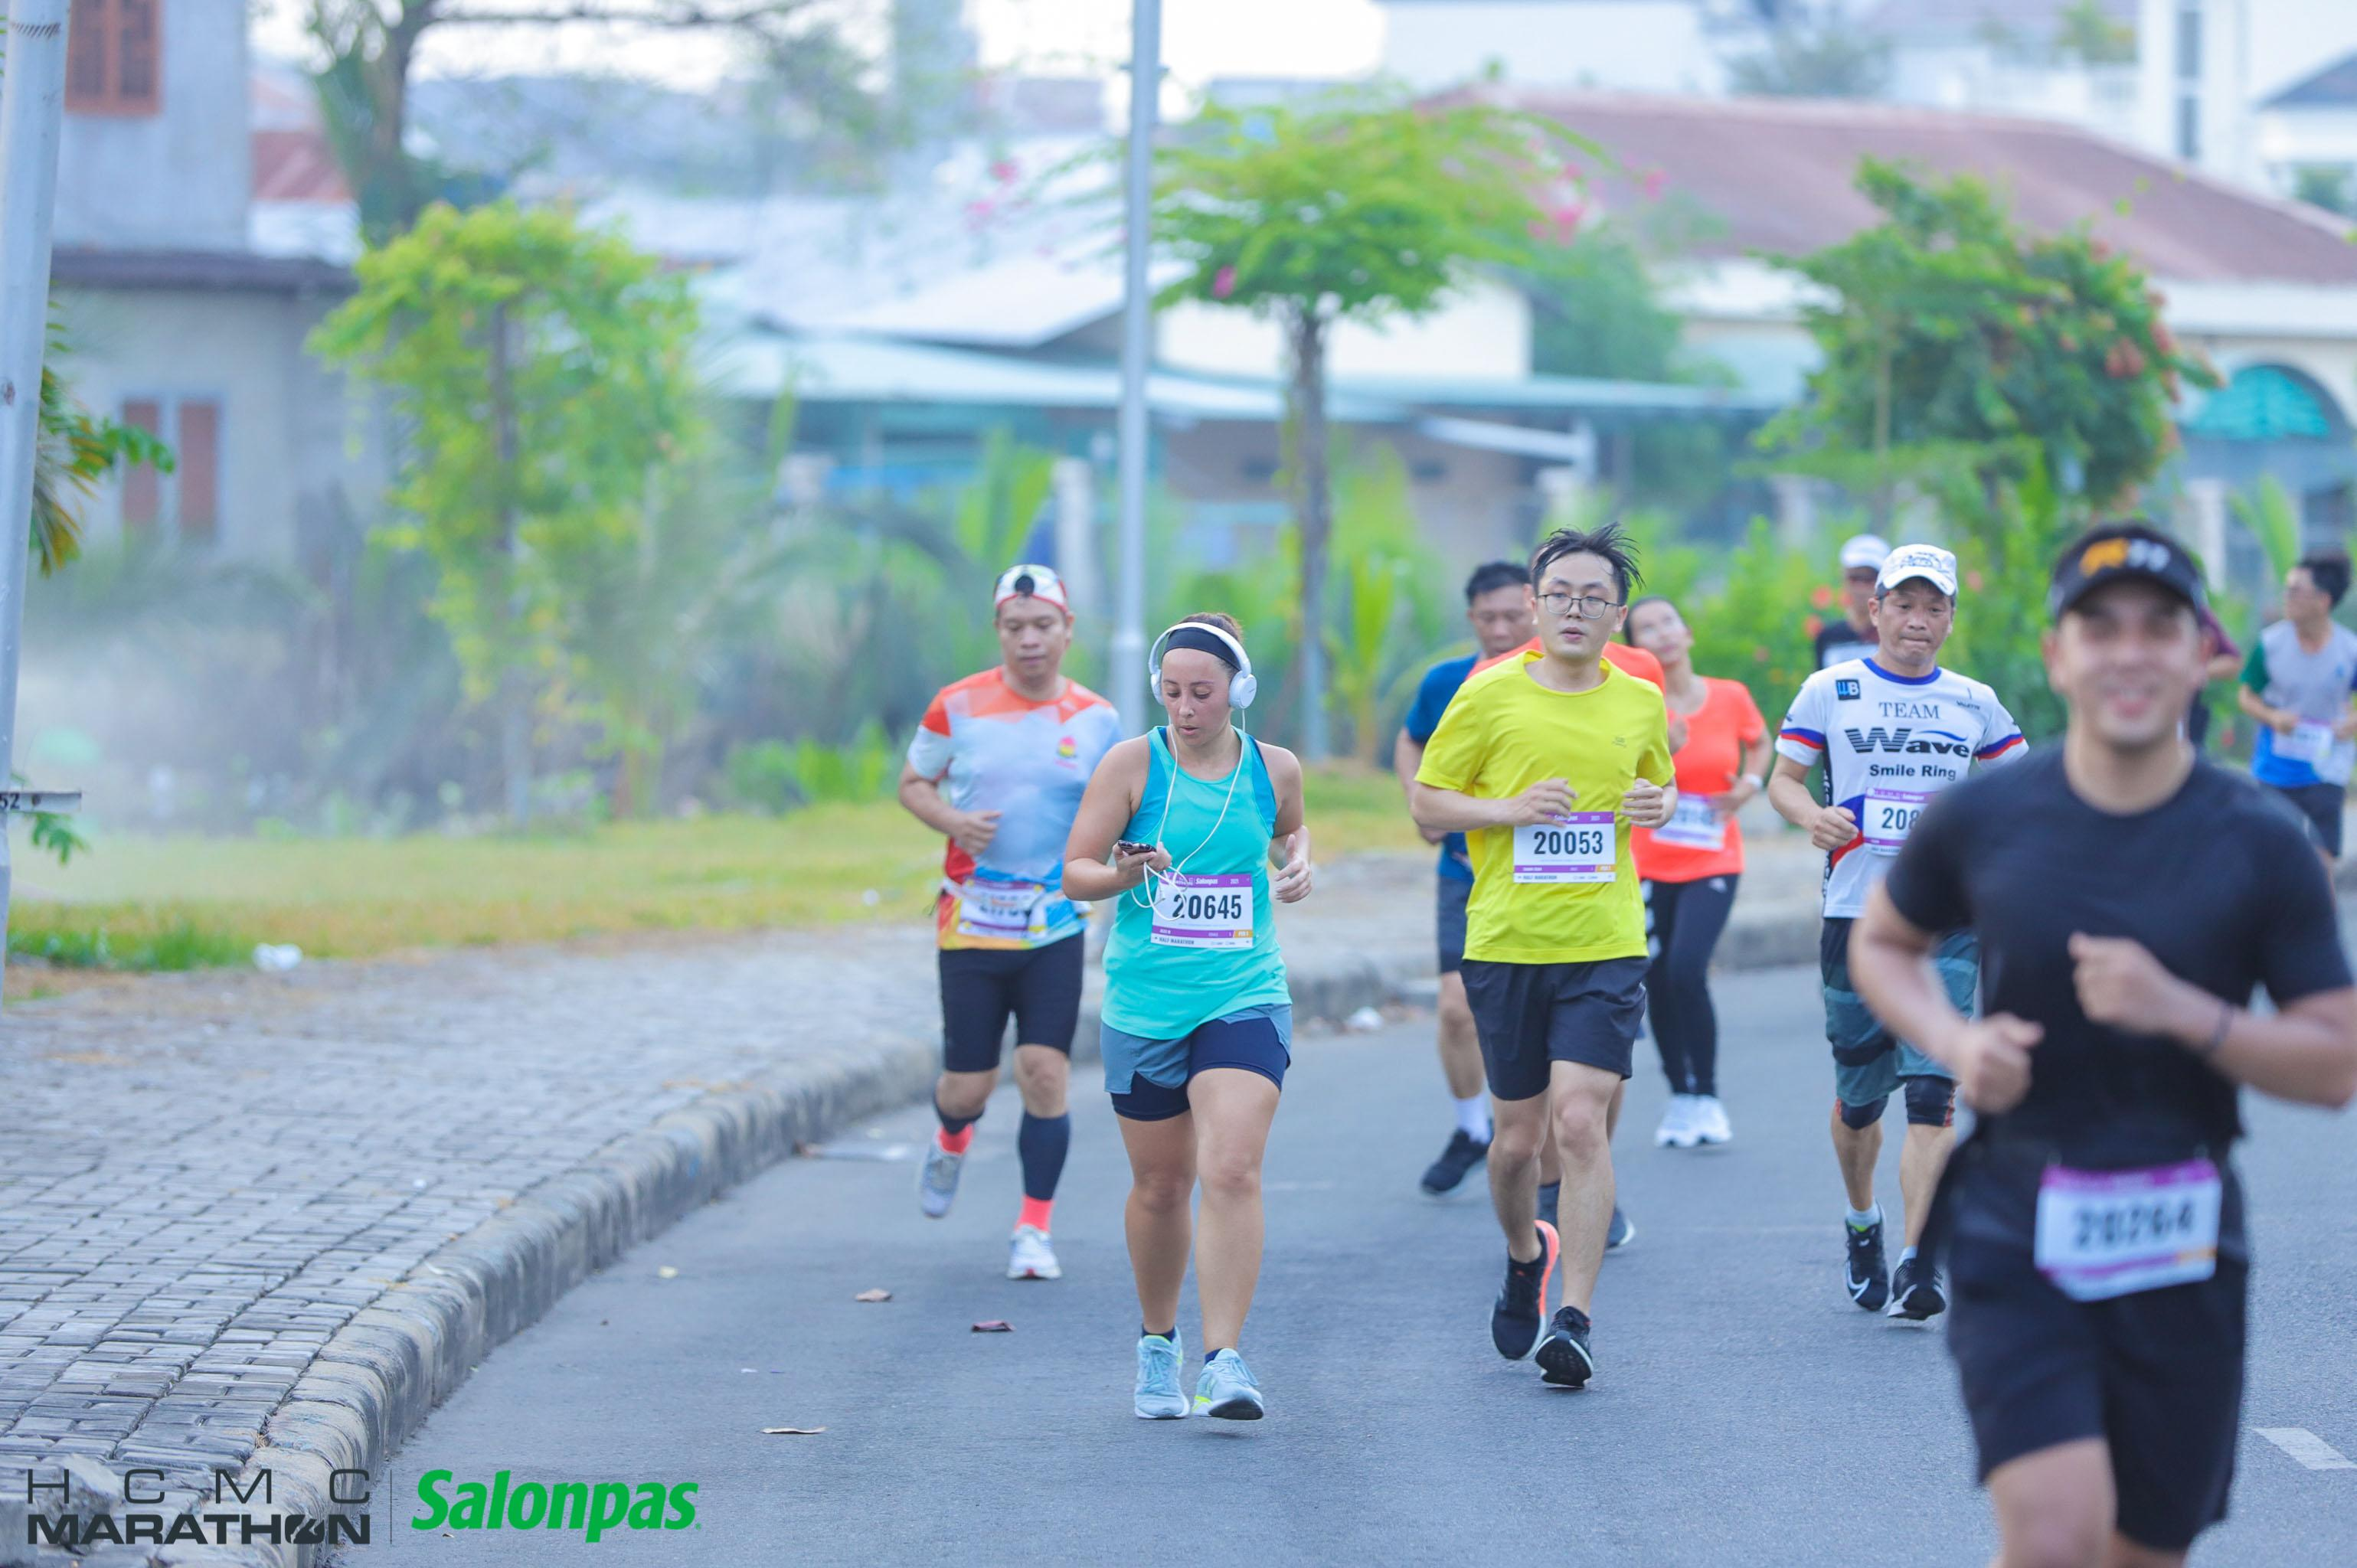bib: (2035, 1171, 2224, 1295), (1153, 866, 1253, 948), (1517, 803, 1613, 877), (1862, 784, 1925, 852), (1655, 796, 1724, 849), (957, 884, 1034, 927)
